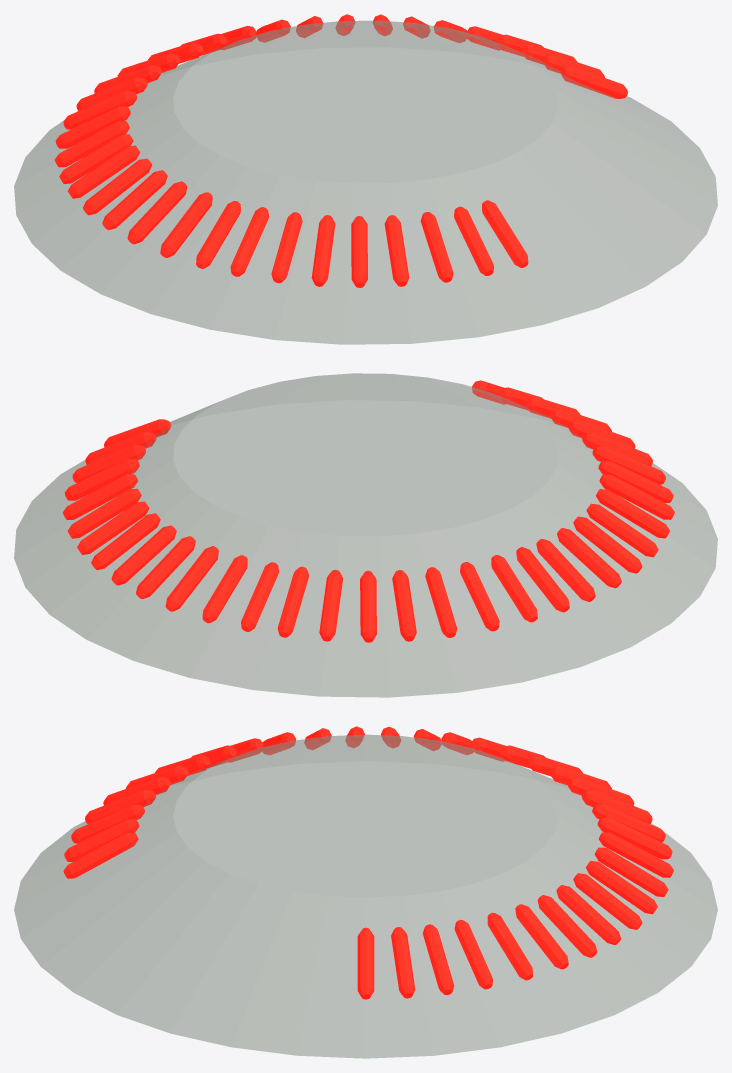
File: dev2.glb
3 views of the same model, one above another, from view 1: azimuth 30°, elevation 25°; view 2: azimuth 150°, elevation 25°; view 3: azimuth 270°, elevation 25° (orthographic).
Parts seen in each view (by area): view 1: Cone.001; view 2: Cone.001; view 3: Cone.001.
Boxes of the visible parts, x1,y1,x2,y2 form: Cone.001: (14,14,717,344); Cone.001: (14,373,717,697); Cone.001: (14,726,717,1058).
Bounding box in the file's own units: 0.7293 × 0.1072 × 0.7293.
